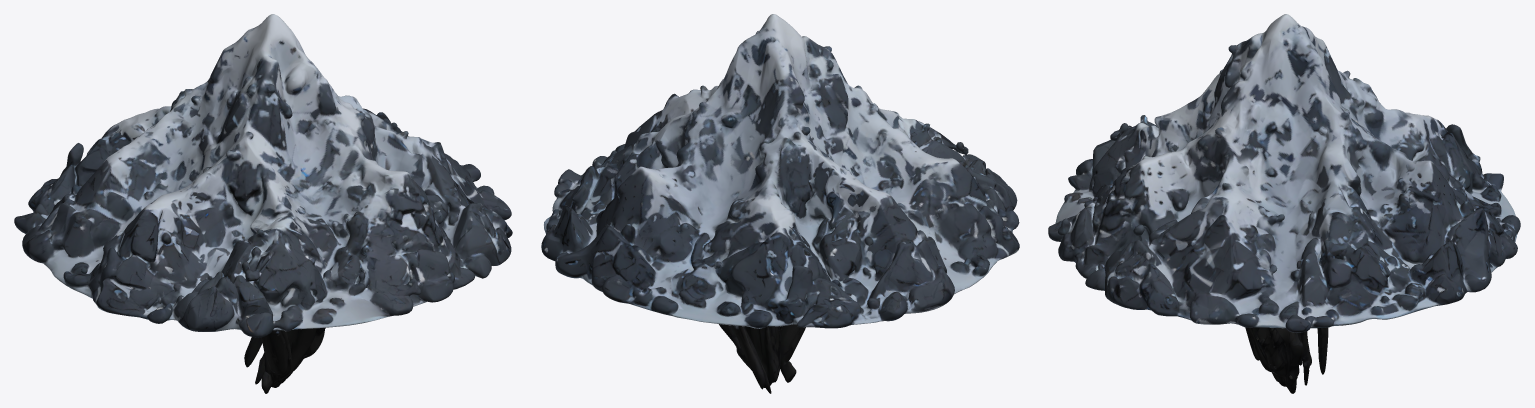
The model's file is nature-mountain-snow.glb.
The picture shows the model from 3 angles, left to right: view 1: azimuth 30°, elevation 25°; view 2: azimuth 150°, elevation 25°; view 3: azimuth 270°, elevation 25°; orthographic projection.
Visible parts, largest first — view 1: tripo_node_0147e24f-4019-410b-8265-7a5cd75698e2; view 2: tripo_node_0147e24f-4019-410b-8265-7a5cd75698e2; view 3: tripo_node_0147e24f-4019-410b-8265-7a5cd75698e2.
Part boxes in pixels (x1,y1,x2,y2): tripo_node_0147e24f-4019-410b-8265-7a5cd75698e2: (14,14,512,393); tripo_node_0147e24f-4019-410b-8265-7a5cd75698e2: (541,14,1019,393); tripo_node_0147e24f-4019-410b-8265-7a5cd75698e2: (1048,14,1520,393).
Size of the model in its own units: 41.01 by 35 by 39.87.
1 material, 1 textured.
